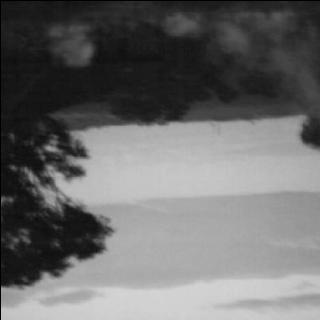Stratocumulus: (0, 123, 320, 320)
